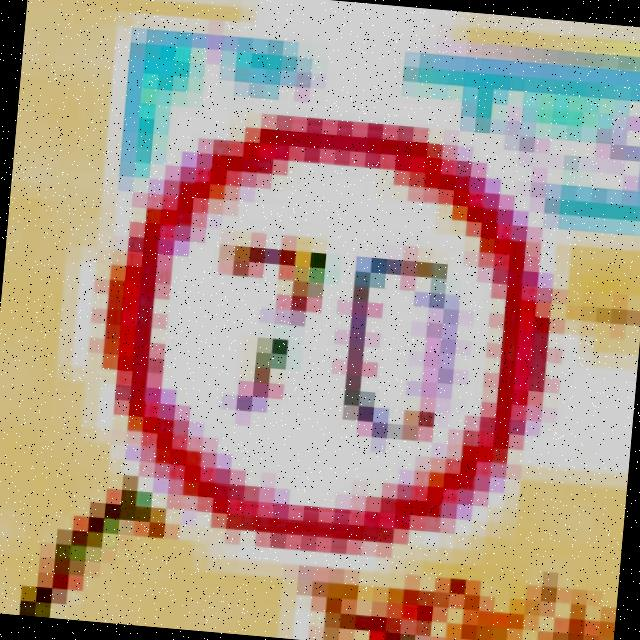Ograniczenie predkosci do 70: (86, 95, 570, 559)
